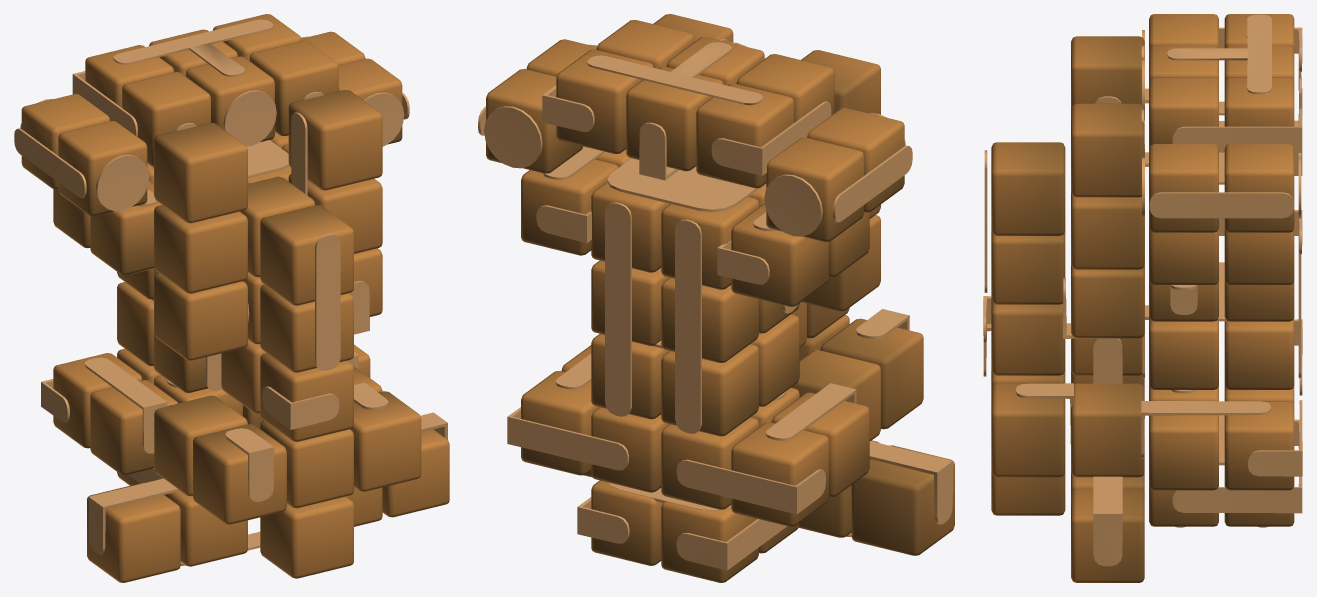
The model's file is level_145.fbx.
The picture shows the model from 3 angles, left to right: view 1: azimuth 30°, elevation 25°; view 2: azimuth 150°, elevation 25°; view 3: azimuth 270°, elevation 25°; orthographic projection. The views are drawn at different scales.
Parts seen in each view (by area): view 1: Cube_L1_4.039, Cube_L1_4.040, Cube_L1_4.034, Cube_L1_4.005, Cube_L1_4.033, Cube_L1_4.015, Cube_L1_4.010, Cube_L1_4.012, Cube_L1_4.017, Cube_L1_4.011, Cube_L1_4.013, Cube_L1_4 (+45 smaller); view 2: Cube_L1_4.015, Cube_L1_11.011, Link_19.002, Link_21.001, Cube_L1_11.012, Cube_L1_11.030, Cube_L1_4.012, Cube_L1_11.034, Cube_L1_11.003, Cube_L1_11.028, Cube_L1_11.032, Cube_L1_11.007 (+48 smaller); view 3: Cube_L1_4.005, Cube_L1_4.040, Cube_L1_4.018, Cube_L1_4.017, Cube_L1_4.038, Cube_L1_11.019, Cube_L1_4.004, Cube_L1_4.037, Cube_L1_4, Cube_L1_11.001, Cube_L1_11.002, Cube_L1_4.016 (+36 smaller).
Boxes of the visible parts, left/top/right/bottom form: Cube_L1_4.039: left=154, top=122, right=247, bottom=223; Cube_L1_4.040: left=288, top=90, right=382, bottom=190; Cube_L1_4.034: left=154, top=205, right=247, bottom=293; Cube_L1_4.005: left=260, top=205, right=353, bottom=305; Cube_L1_4.033: left=154, top=273, right=247, bottom=360; Cube_L1_4.015: left=87, top=482, right=180, bottom=582; Cube_L1_4.010: left=260, top=496, right=353, bottom=578; Cube_L1_4.012: left=193, top=424, right=286, bottom=524; Cube_L1_4.017: left=350, top=391, right=421, bottom=491; Cube_L1_4.011: left=260, top=420, right=353, bottom=508; Cube_L1_4.013: left=154, top=395, right=247, bottom=496; Cube_L1_4: left=260, top=285, right=353, bottom=372; Cube_L1_4.015: left=851, top=445, right=954, bottom=555; Cube_L1_11.011: left=731, top=203, right=829, bottom=306; Link_19.002: left=605, top=202, right=631, bottom=416; Link_21.001: left=675, top=219, right=701, bottom=433; Cube_L1_11.012: left=731, top=422, right=829, bottom=526; Cube_L1_11.030: left=696, top=83, right=793, bottom=188; Cube_L1_4.012: left=820, top=318, right=923, bottom=429; Cube_L1_11.034: left=556, top=49, right=653, bottom=153; Cube_L1_11.003: left=661, top=344, right=758, bottom=436; Cube_L1_11.028: left=766, top=137, right=864, bottom=241; Cube_L1_11.032: left=626, top=66, right=723, bottom=171; Cube_L1_11.007: left=661, top=277, right=758, bottom=362; Cube_L1_4.005: left=991, top=142, right=1065, bottom=235; Cube_L1_4.040: left=1071, top=103, right=1144, bottom=197; Cube_L1_4.018: left=1071, top=383, right=1144, bottom=477; Cube_L1_4.017: left=991, top=383, right=1065, bottom=477; Cube_L1_4.038: left=1071, top=192, right=1144, bottom=269; Cube_L1_11.019: left=1149, top=415, right=1218, bottom=490; Cube_L1_4.004: left=991, top=299, right=1065, bottom=375; Cube_L1_4.037: left=1071, top=264, right=1144, bottom=338; Cube_L1_4: left=991, top=231, right=1065, bottom=304; Cube_L1_11.001: left=1224, top=317, right=1294, bottom=389; Cube_L1_11.002: left=1149, top=317, right=1218, bottom=389; Cube_L1_4.016: left=1071, top=489, right=1144, bottom=582.
Bounding box in the file's own units: 11.03 × 13.55 × 8.61.
